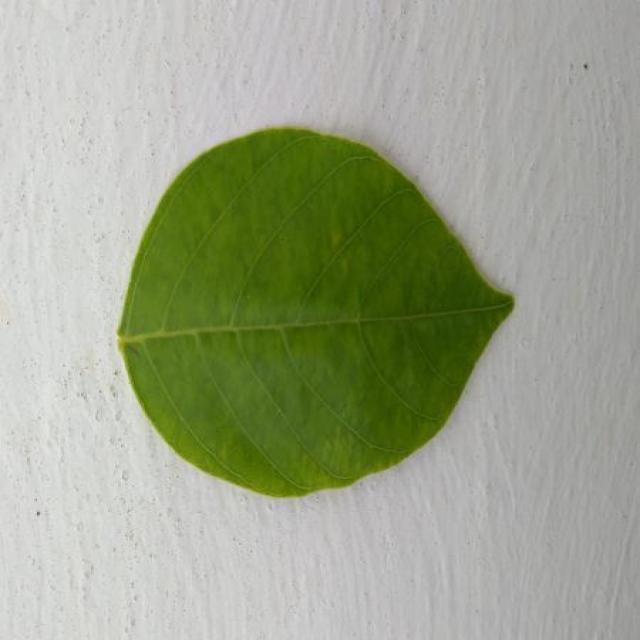honge: (118, 129, 512, 496)
